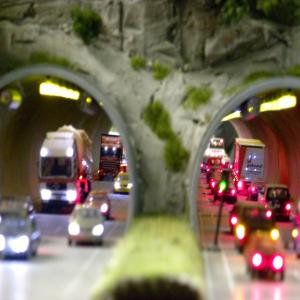Vehicle-registration-plate: (121, 188, 128, 193)
